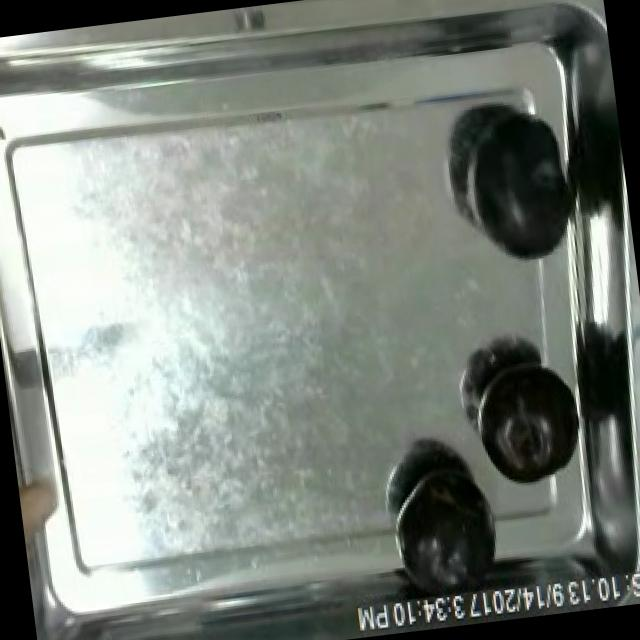Fruit: (452, 100, 581, 278), (380, 448, 515, 608), (460, 344, 584, 498)
